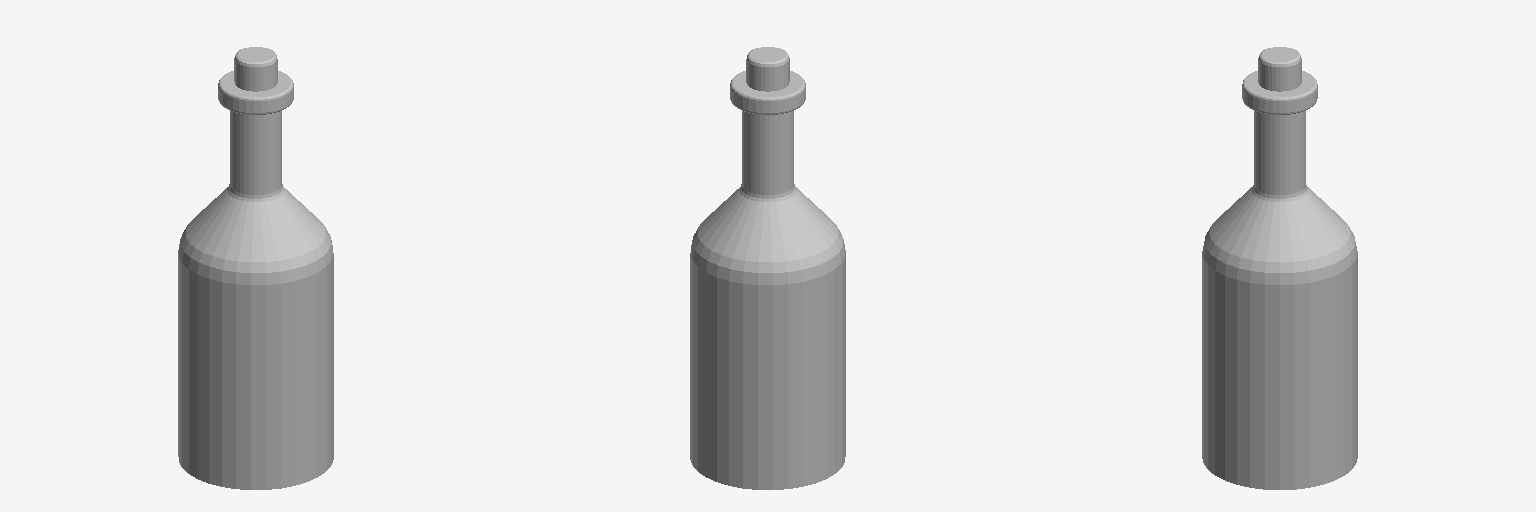
The model's file is Bottle_Large.obj.
3 renders of one model, left to right at view 1: azimuth 30°, elevation 25°; view 2: azimuth 150°, elevation 25°; view 3: azimuth 270°, elevation 25°, orthographic.
Parts seen in each view (by area): view 1: Bottle.004_Cylinder.020; view 2: Bottle.004_Cylinder.020; view 3: Bottle.004_Cylinder.020.
Boxes of the visible parts, <box> form: Bottle.004_Cylinder.020: <box>178,47,333,489</box>; Bottle.004_Cylinder.020: <box>690,47,845,489</box>; Bottle.004_Cylinder.020: <box>1202,47,1357,489</box>.
Size of the model in its own units: 17.2 by 49.16 by 17.2.